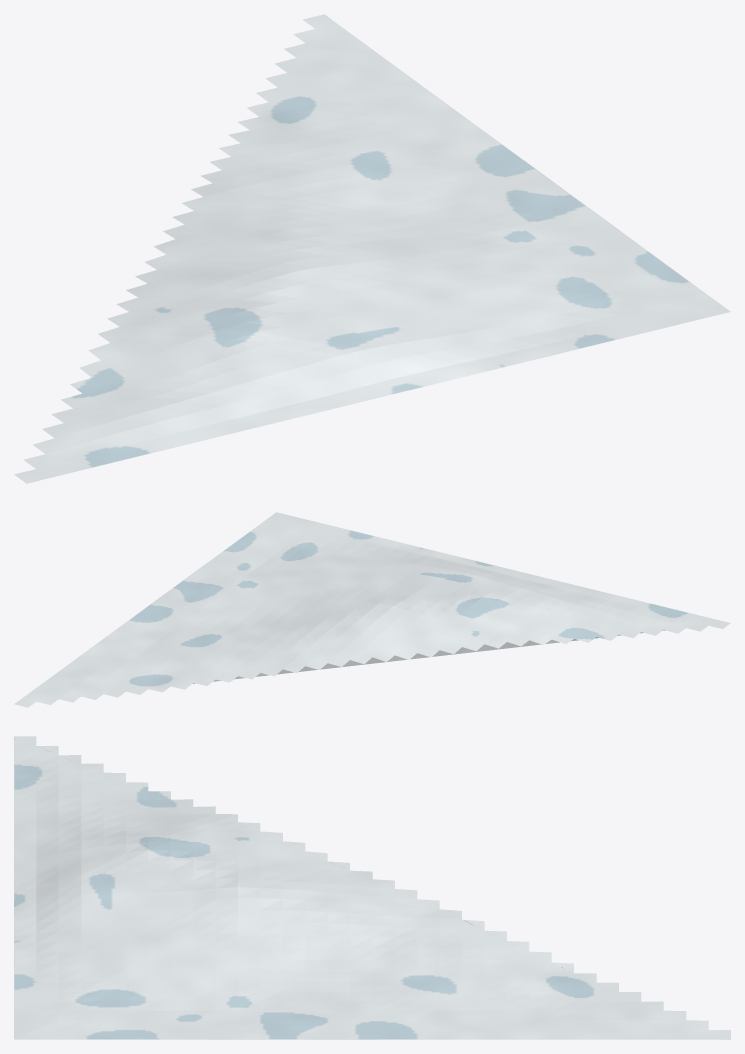
The model's file is Snow_Flat_05_NE.obj.
The picture shows the model from 3 angles, top to bottom: view 1: azimuth 30°, elevation 25°; view 2: azimuth 150°, elevation 25°; view 3: azimuth 270°, elevation 25°; orthographic projection. The views are drawn at different scales.
Size of the model in its own units: 10 by 0.306 by 10.
Materials: 1 (1 with a texture image).
